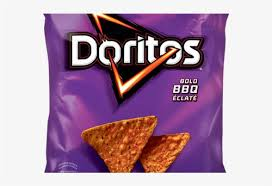Doritos: (51, 12, 233, 180)
